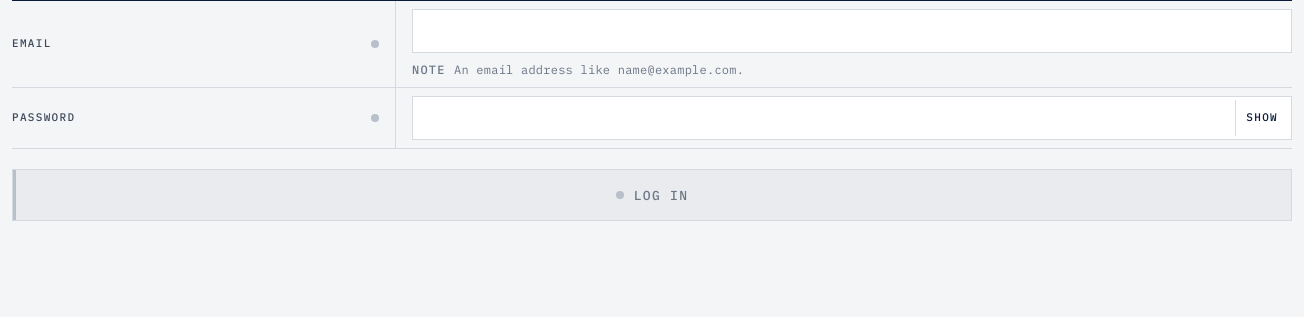
AuthForm (log in) › shows the server error and keeps the entered values when submission fails
In the field labelled "Email": x=852, y=31 [412,9,1292,53], type "ada@example.com"
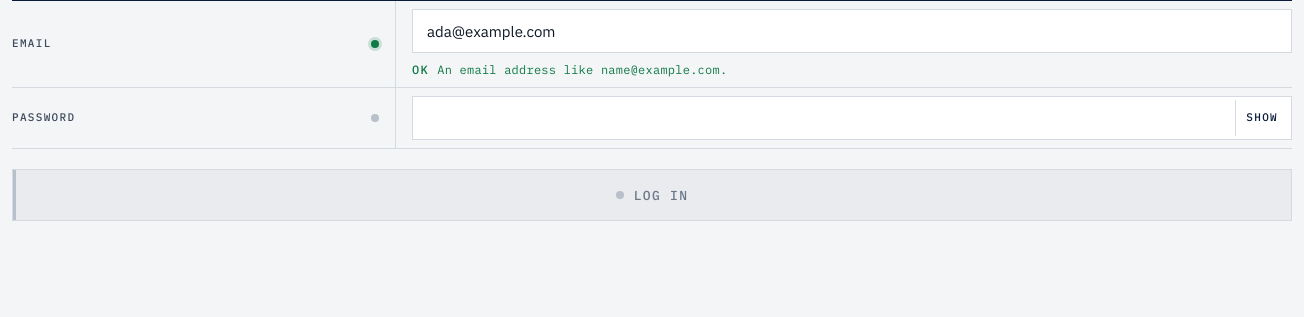
In the password field labelled "Password": x=852, y=118 [412,96,1292,140], type "wrong-pass"
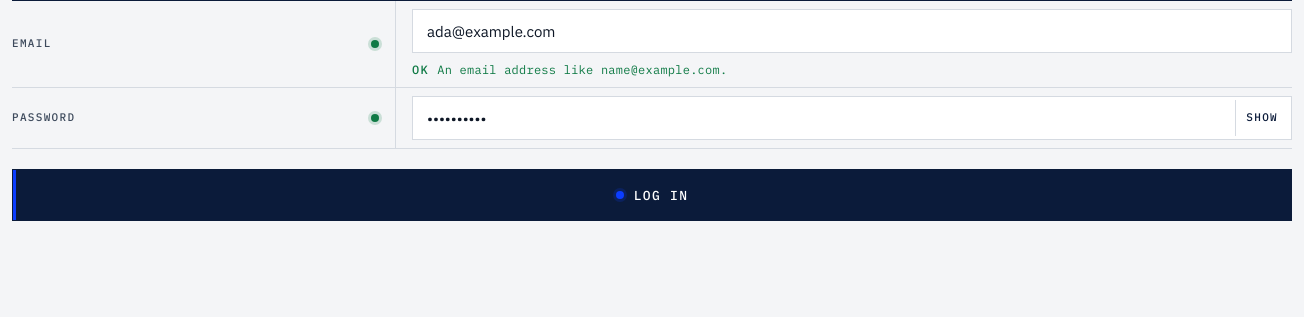
Click the button "Log in": x=652, y=195 [12,169,1292,221]
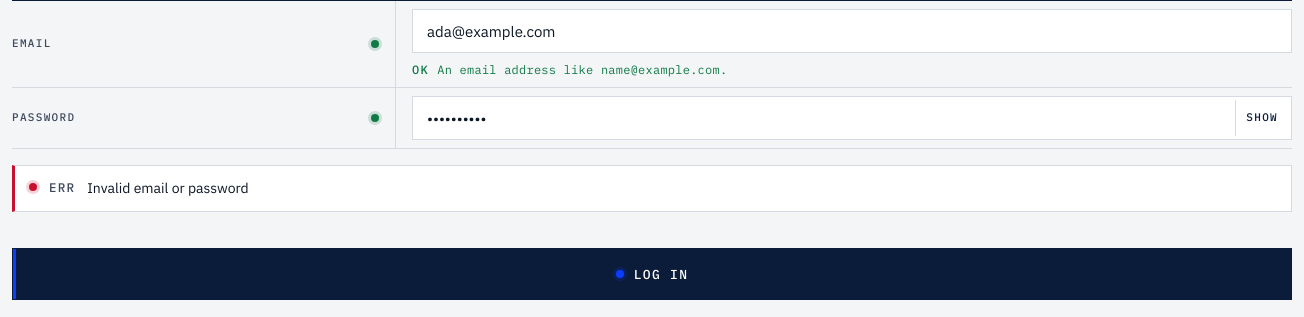
Check: the button "Log in" is enabled, box [12,248,1292,300]
Check: the message shows "Invalid email or password", box [87,179,249,197]
